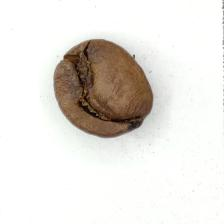NG: (65, 44, 147, 131)
